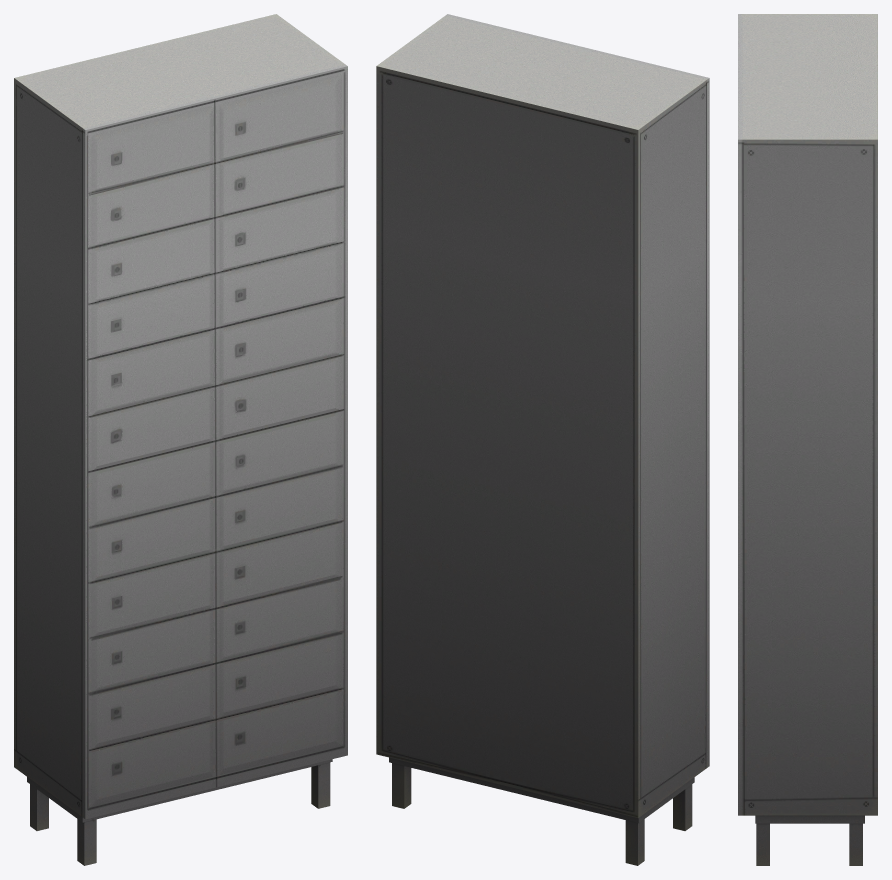
File: SM_Tall_Cabinet.FBX
The picture shows the model from 3 angles, left to right: view 1: azimuth 30°, elevation 25°; view 2: azimuth 150°, elevation 25°; view 3: azimuth 270°, elevation 25°; orthographic projection.
Visible parts, largest first — view 1: SM_Tall_Cabinet; view 2: SM_Tall_Cabinet; view 3: SM_Tall_Cabinet.
Boxes of the visible parts, x1=… form: SM_Tall_Cabinet: x1=14, y1=14, x2=347, y2=865; SM_Tall_Cabinet: x1=376, y1=14, x2=709, y2=865; SM_Tall_Cabinet: x1=738, y1=14, x2=877, y2=865.
Bounding box in the file's own units: 67.39 × 31.74 × 183.
